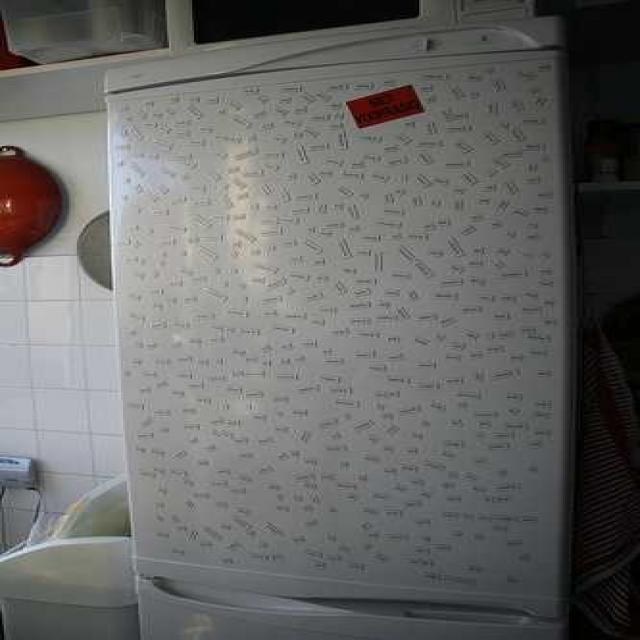refrigerator: (106, 12, 563, 640)
